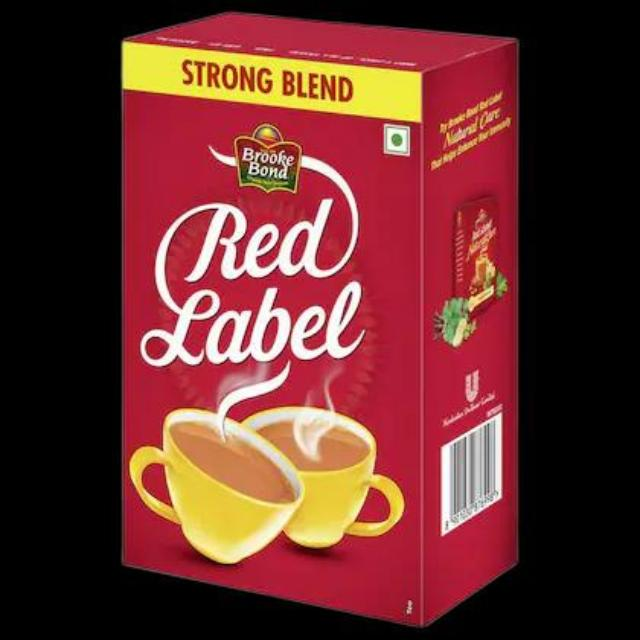Brooke Bond Red Label Leaf Tea 500 g: (113, 8, 533, 628)
